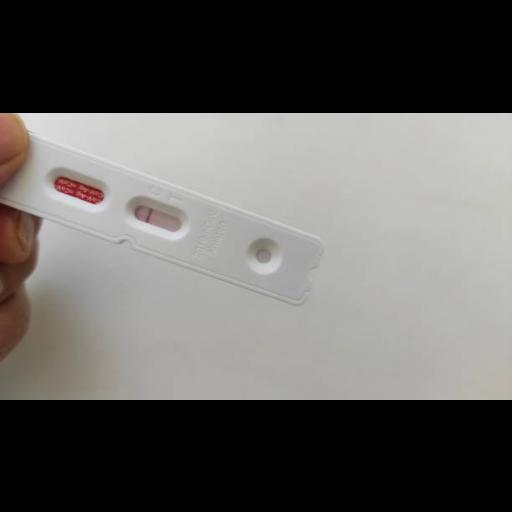Neg: (14, 138, 326, 308)
